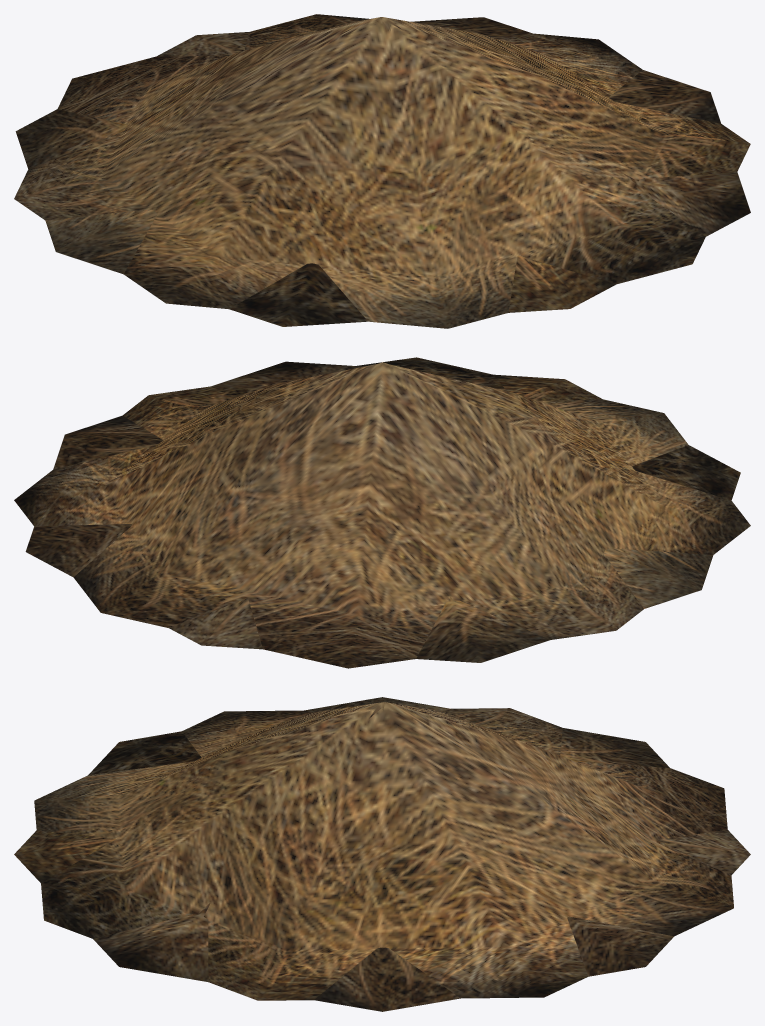
Rendered from KQZD_cao.FBX.
3 views of the same model, one above another, from view 1: azimuth 30°, elevation 25°; view 2: azimuth 150°, elevation 25°; view 3: azimuth 270°, elevation 25° (orthographic). The views are drawn at different scales.
Parts seen in each view (by area): view 1: KQZD_cao; view 2: KQZD_cao; view 3: KQZD_cao.
Boxes of the visible parts, <box> form: KQZD_cao: <box>14,14,750,328</box>; KQZD_cao: <box>14,357,750,668</box>; KQZD_cao: <box>14,697,750,1011</box>.
Bounding box in the file's own units: 436 × 431 × 98.36.
